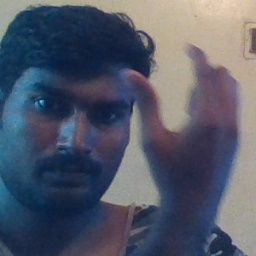U: (119, 37, 246, 192)
